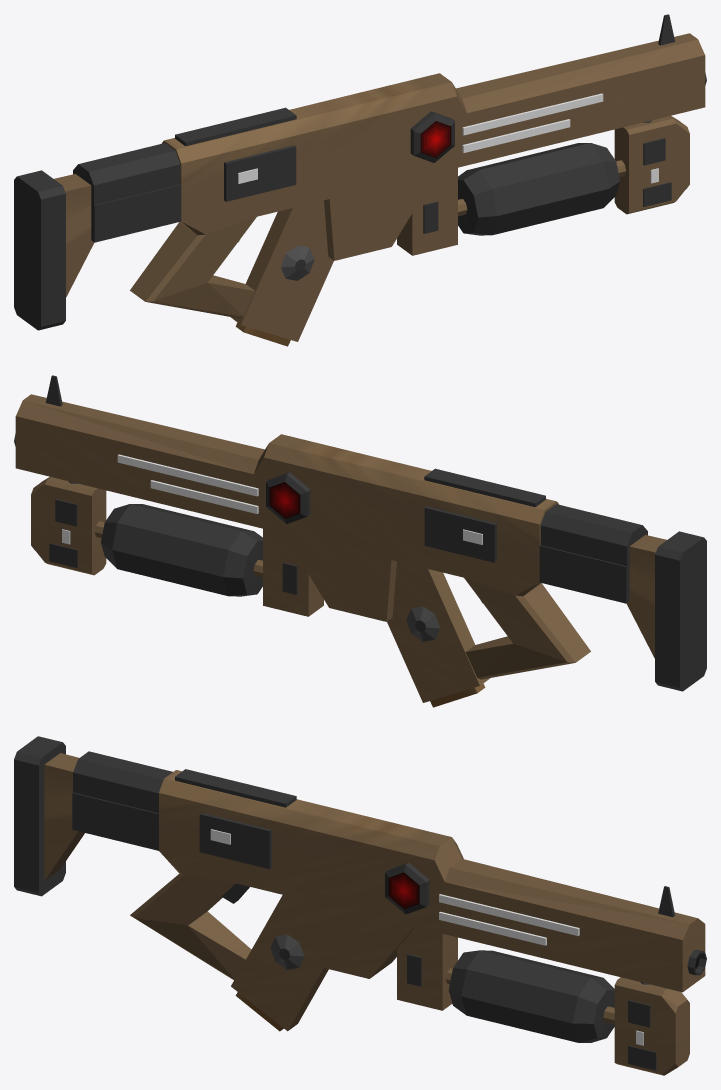
File: Rifle_D_V3.FBX
The picture shows the model from 3 angles, top to bottom: view 1: azimuth 30°, elevation 25°; view 2: azimuth 150°, elevation 25°; view 3: azimuth 330°, elevation 25°; orthographic projection.
Parts seen in each view (by area): view 1: Rifle_D_V3; view 2: Rifle_D_V3; view 3: Rifle_D_V3.
Part boxes in pixels (bbox=[...]): Rifle_D_V3: bbox=[14, 14, 706, 341]; Rifle_D_V3: bbox=[14, 375, 706, 702]; Rifle_D_V3: bbox=[14, 736, 706, 1075].
Bounding box in the file's own units: 392 × 131 × 36.54.
